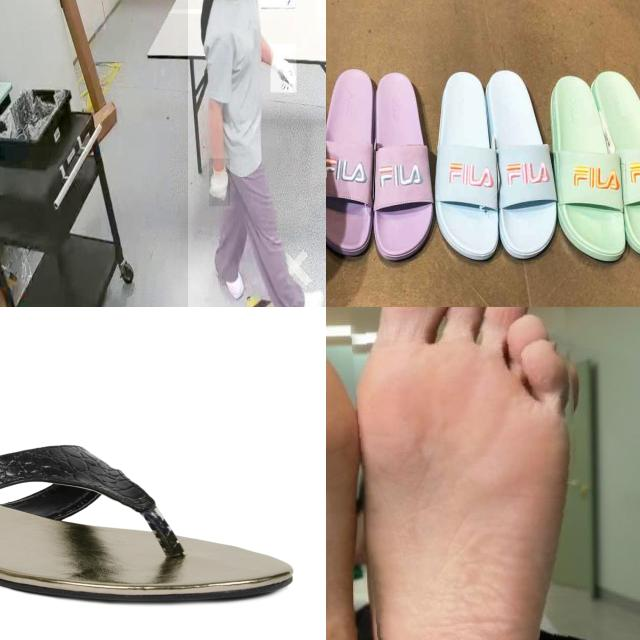Barefoots: (358, 307, 567, 640)
Sandals: (0, 443, 295, 605), (414, 52, 566, 284), (326, 42, 438, 265), (547, 34, 640, 286)
hand_glove: (270, 44, 296, 92), (209, 158, 231, 208)
person: (188, 0, 326, 307)
shoes: (214, 251, 252, 305), (281, 279, 326, 307)
